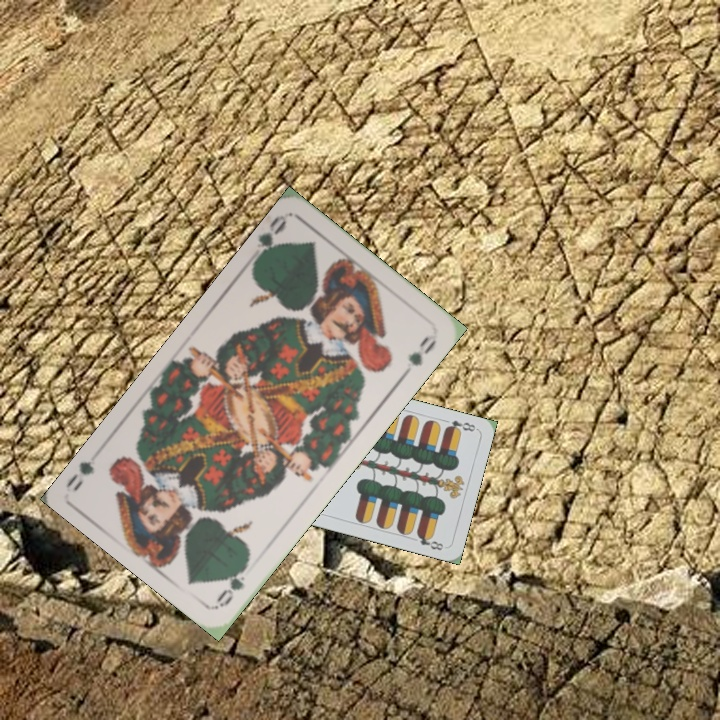E8: (441, 416, 478, 435)
GO: (249, 211, 290, 266), (212, 557, 251, 610)
